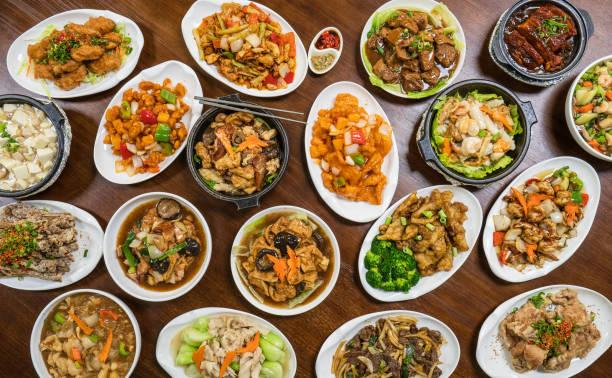Braised Crucian Carp: (483, 155, 600, 281), (360, 184, 479, 300), (92, 61, 202, 186), (416, 78, 537, 188), (304, 80, 394, 223), (474, 284, 610, 376), (180, 0, 307, 98), (5, 7, 140, 99), (102, 192, 211, 301), (230, 205, 336, 316), (185, 100, 289, 211), (358, 0, 464, 100), (155, 306, 295, 376), (30, 289, 140, 376), (1, 198, 103, 291), (315, 309, 457, 375), (488, 0, 593, 87), (0, 92, 71, 199)
